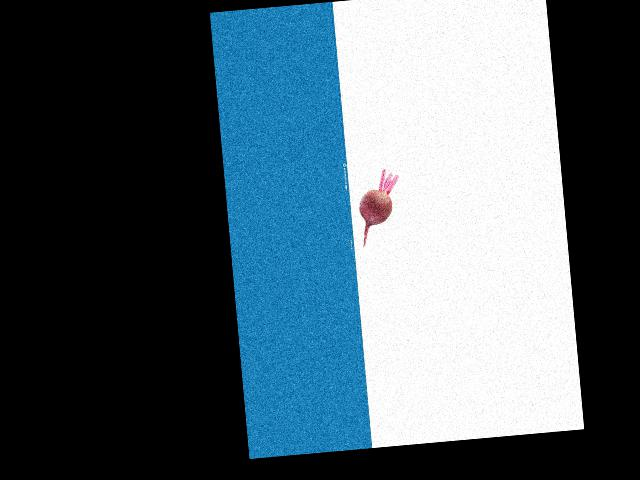beet: (356, 168, 404, 246)
